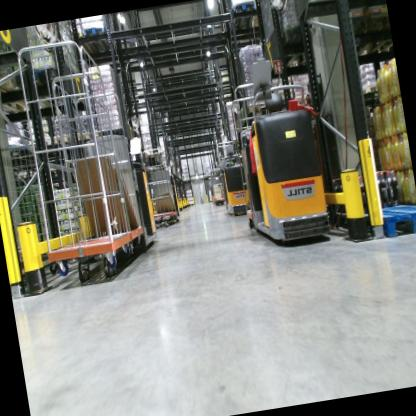pallet: (83, 0, 262, 64), (344, 0, 395, 71), (317, 4, 374, 62), (348, 196, 416, 244), (0, 80, 39, 120), (64, 19, 95, 67), (6, 139, 40, 167)
pallet_truck: (23, 73, 169, 303), (226, 68, 338, 258), (205, 131, 258, 224), (137, 147, 186, 233)
